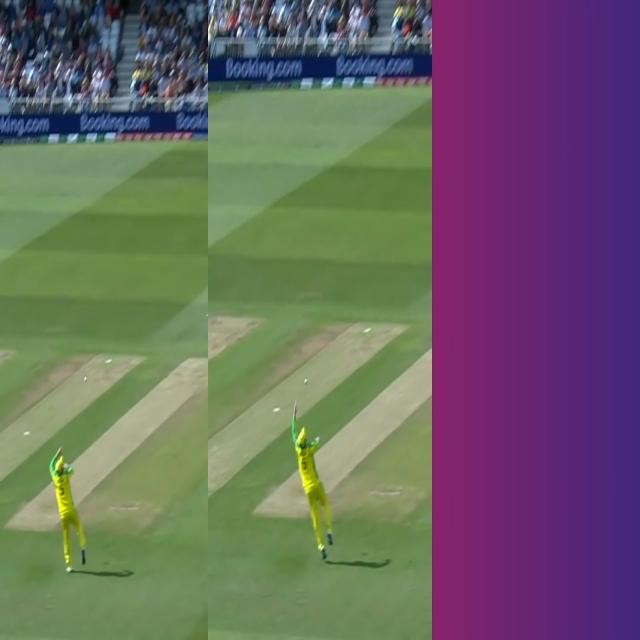ball: (79, 371, 92, 391), (300, 372, 312, 392)
